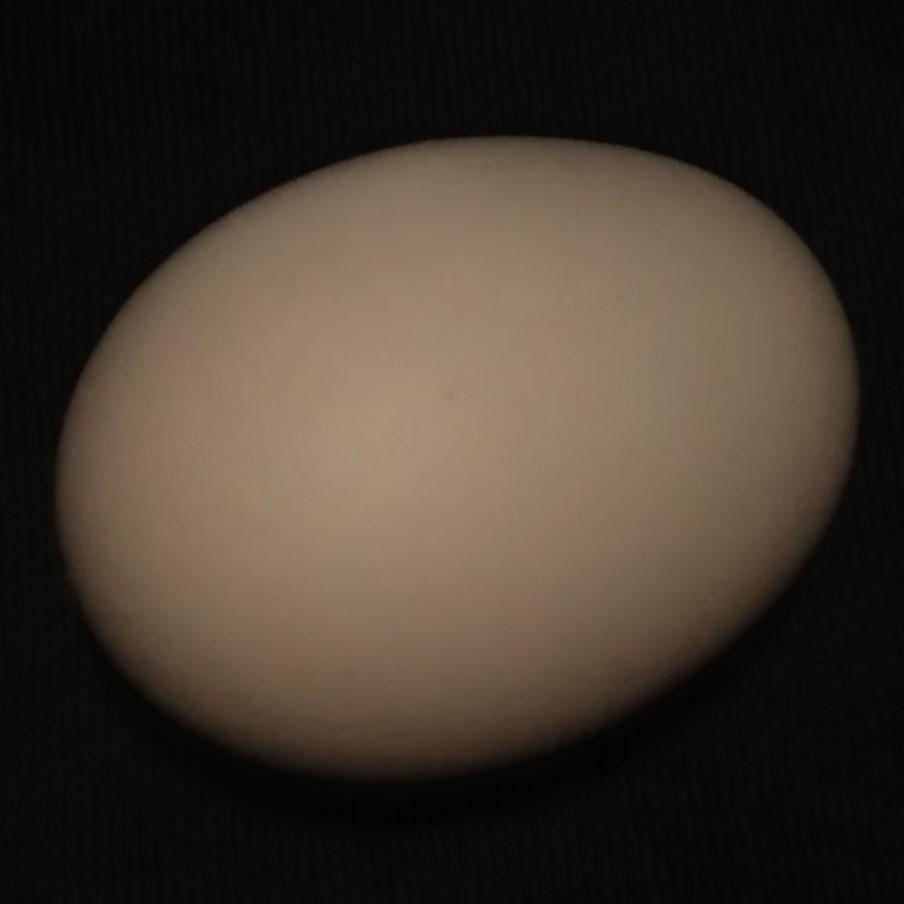egg: (65, 138, 854, 786)
